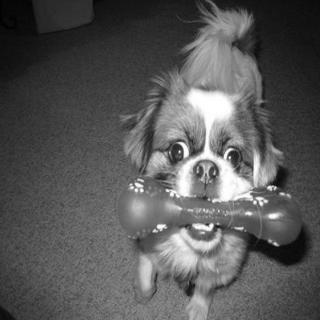dog: (131, 63, 276, 269)
nose: (190, 157, 223, 186)
